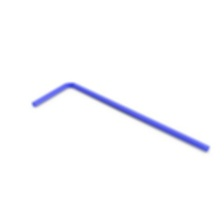drinking_straw: (26, 77, 218, 157)
